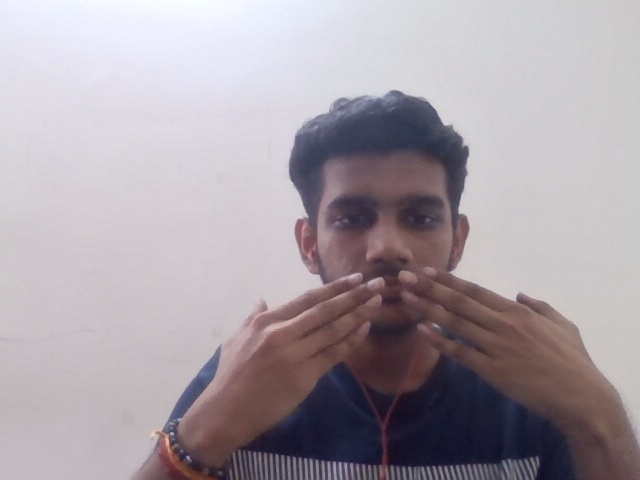thanks: (187, 253, 622, 440)
